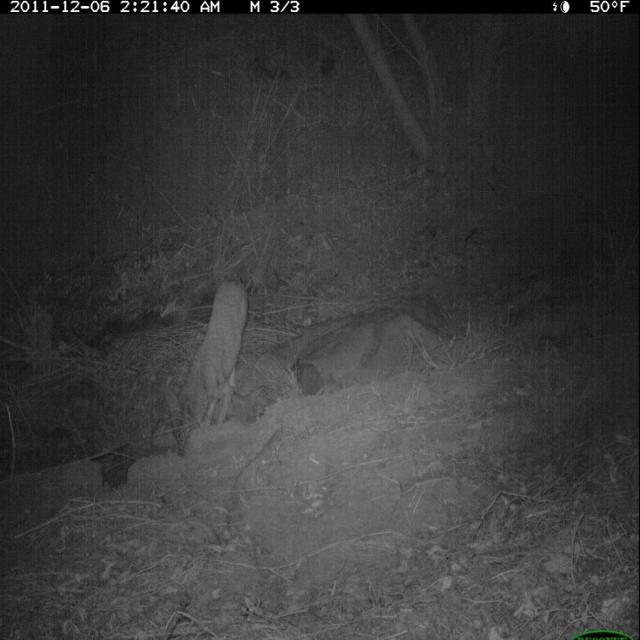coyote: (163, 273, 252, 466)
